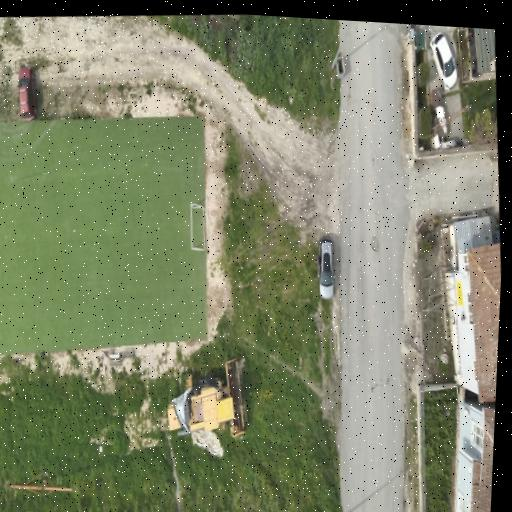car: (430, 31, 457, 90), (317, 238, 334, 298), (18, 66, 35, 119)
harvester: (168, 359, 247, 437)
